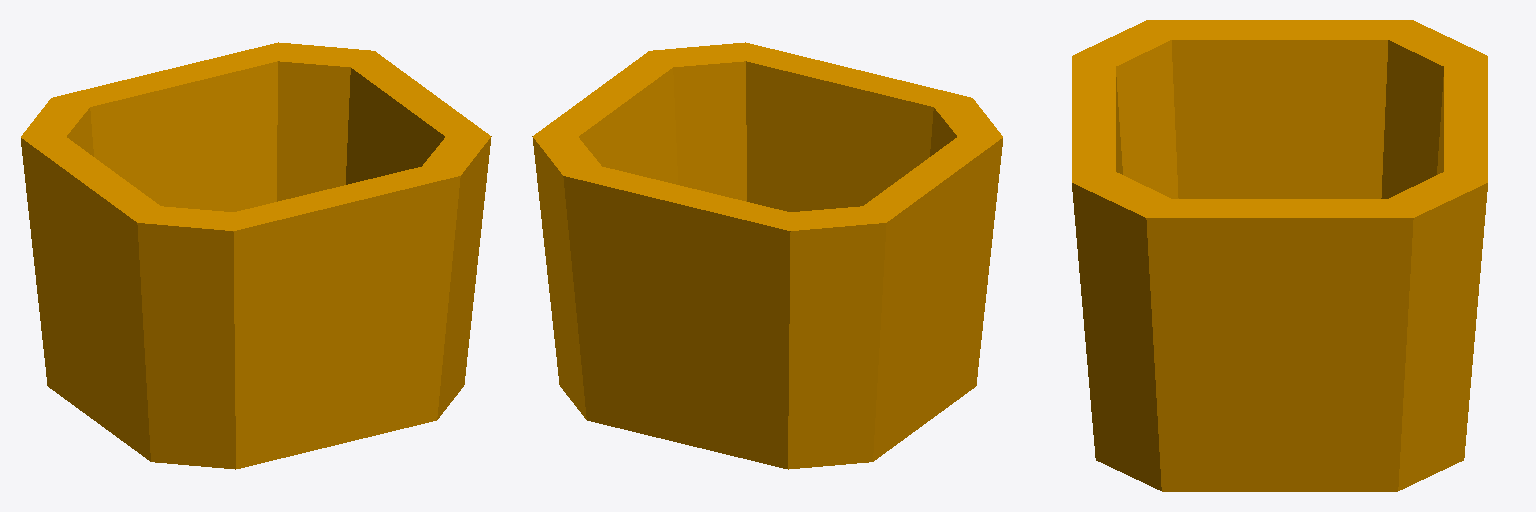
The robot description file, URDF, robot "paper_baking_cup":
<?xml version="1.0"?>
<robot name="paper_baking_cup">
  <link name="paper_baking_cup">
    <inertial>
        <origin rpy="0 0 0" xyz="0 0 0"/>
        <mass value="0.01"/>
        <inertia ixx="3.67e-5" ixy="0" ixz="0" iyy="5.6e-4" iyz="0" izz="5.9e-4"/>
    </inertial>
    <visual>
      <geometry>
        <mesh filename="PaperBakingCup.obj"/>
      </geometry>
    </visual>
    <collision>
      <geometry>
        <mesh filename="PaperBakingCupCollider.obj"/>
      </geometry>
    </collision>
  </link>
</robot>

--- What the picture shows (computed from the rendered views, not written in the file) ---
3 views of the same robot in one strip: view 1: azimuth 30°, elevation 25°; view 2: azimuth 150°, elevation 25°; view 3: azimuth 270°, elevation 25° (orthographic).
Model paper_baking_cup with 1 links and 0 joints (none), rooted at paper_baking_cup, posed every joint at zero.
Links seen in each view (by area): view 1: paper_baking_cup; view 2: paper_baking_cup; view 3: paper_baking_cup.
Boxes of the visible links, x1,y1,x2,y2 form: paper_baking_cup: [21, 42, 491, 469]; paper_baking_cup: [532, 42, 1002, 469]; paper_baking_cup: [1072, 20, 1487, 491].
Size in the robot's own frame: 0.0765 by 0.0681 by 0.0514 metres.
1 mesh visuals loaded from 1 distinct referenced files (1 OBJ).
